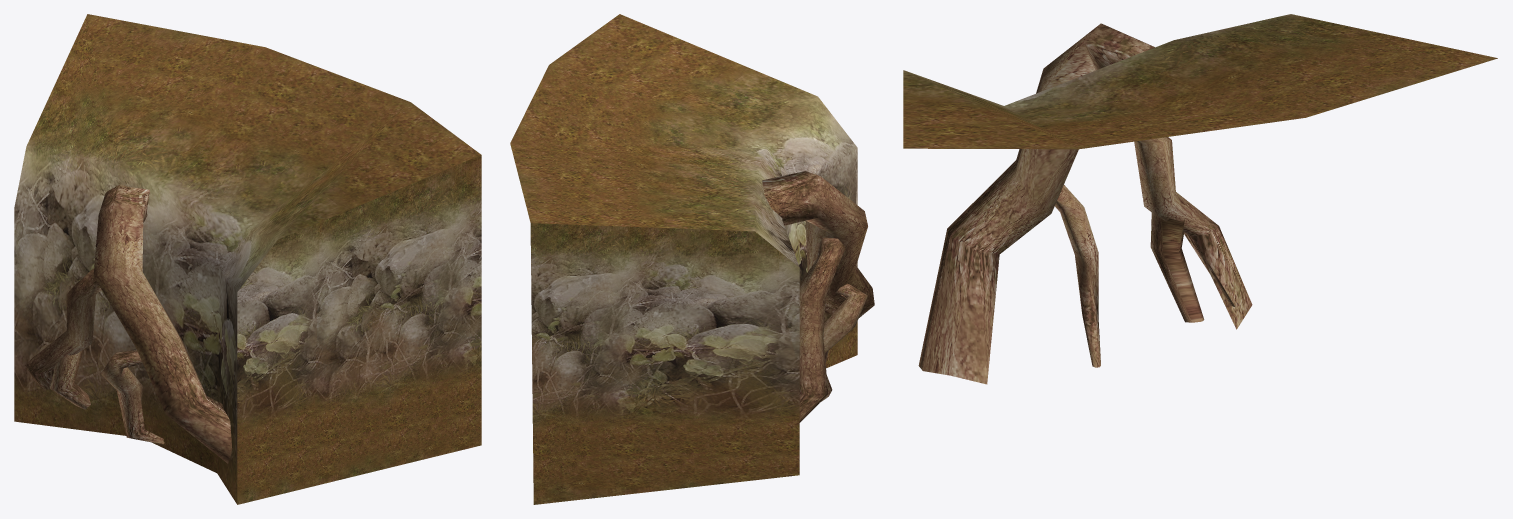
File: n_tilewallC_5.glb
3 views of the same model, side by side, from view 1: azimuth 30°, elevation 25°; view 2: azimuth 150°, elevation 25°; view 3: azimuth 270°, elevation 25° (orthographic). The views are drawn at different scales.
Parts seen in each view (by area): view 1: n_tilewallC_5; view 2: n_tilewallC_5; view 3: n_tilewallC_5.
Part boxes in pixels (x1,y1,x2,y2): n_tilewallC_5: [14, 14, 481, 504]; n_tilewallC_5: [510, 14, 874, 504]; n_tilewallC_5: [903, 14, 1497, 384].
Size of the model in its own units: 4.09 by 3.41 by 5.17.
2 materials, 2 textured.
